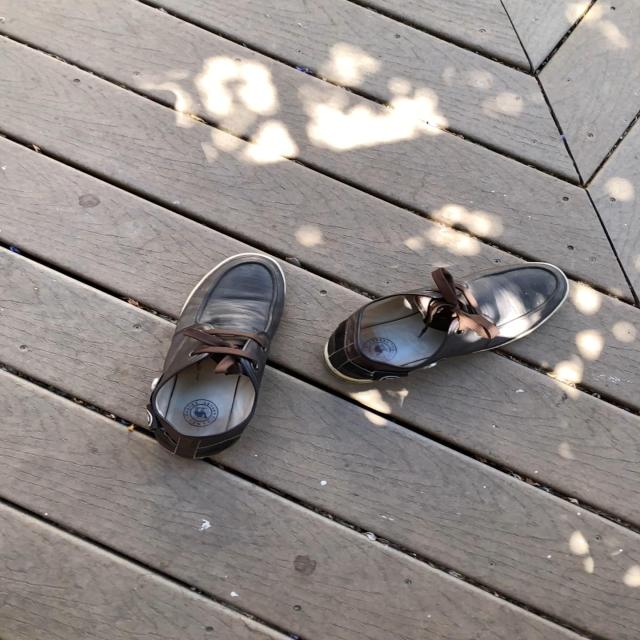shoe: (328, 263, 569, 381), (148, 255, 285, 461)
